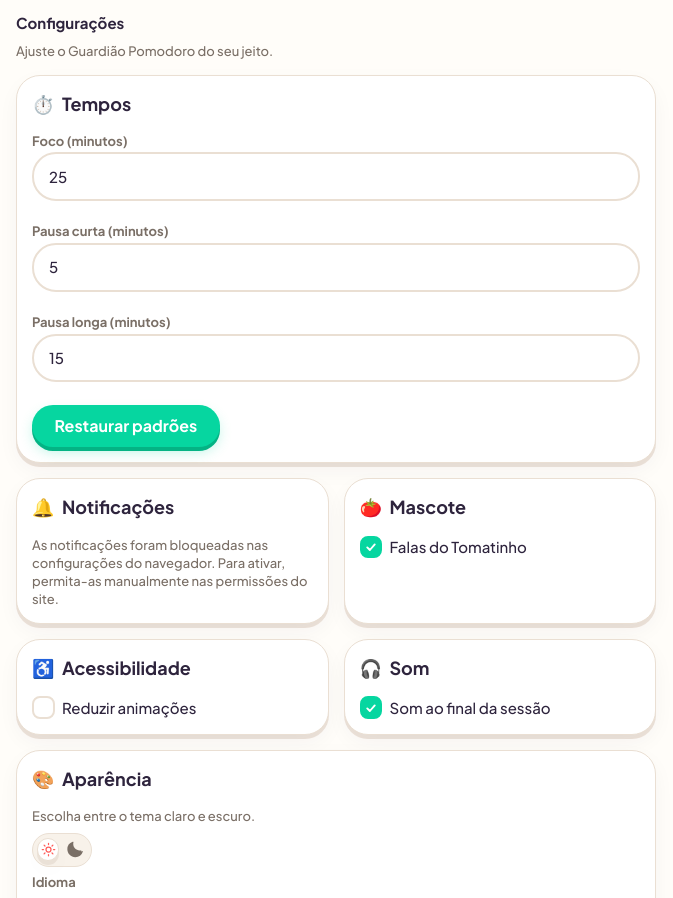
ConfiguracoesPage › seção Tempos › "Restaurar padrões" volta os 3 campos a 25/5/15 e persiste
Replace the text in the number field labelled "Foco (minutos)" with "40": (336,177) [32,152,640,201]
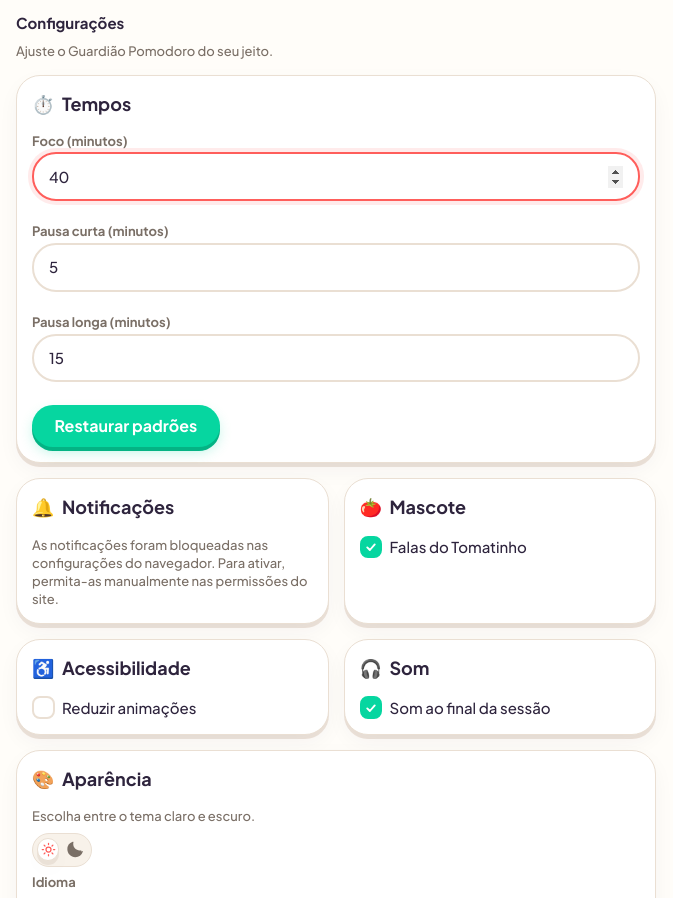
Press Tab
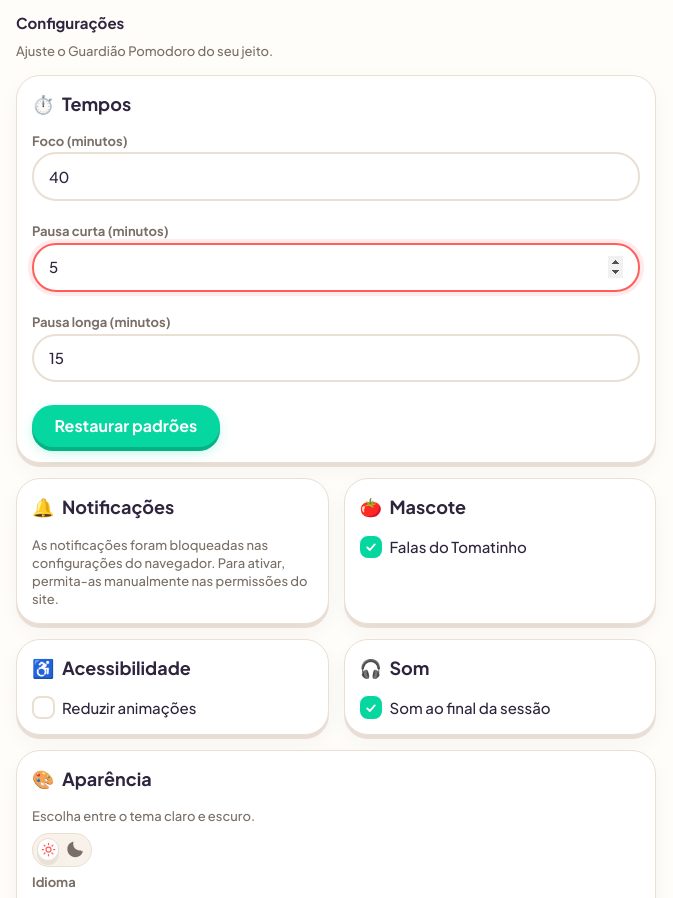
Click the button "Restaurar padrões": (126,426) [32,405,220,447]
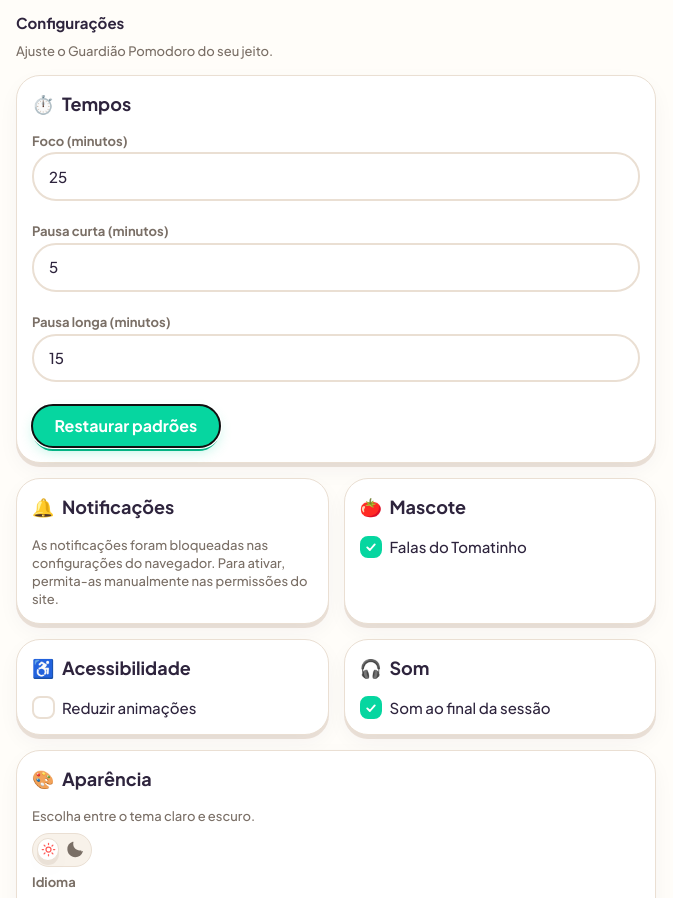
Now the number field labelled "Foco (minutos)" holds "25", box [32,152,640,201]
